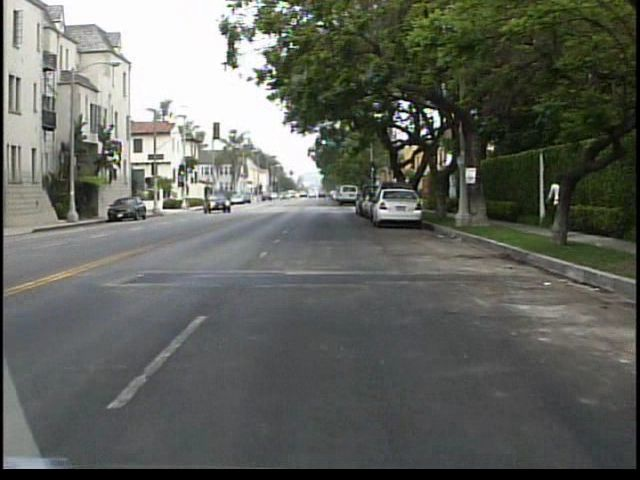person: (539, 167, 575, 248)
